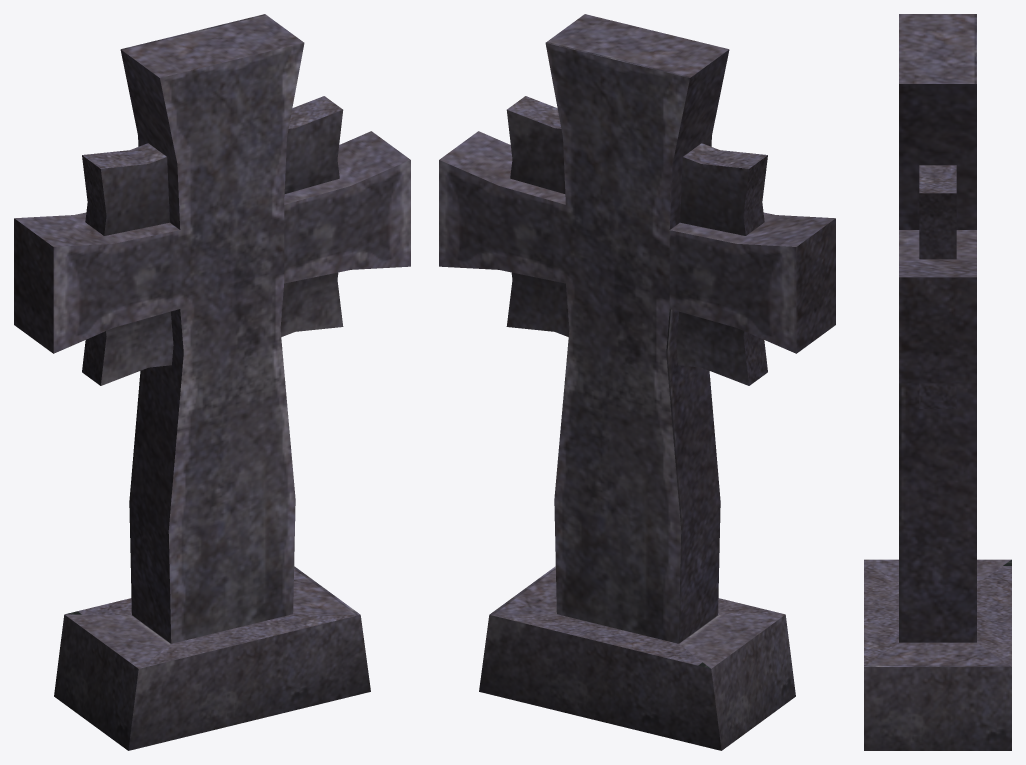
File: Tombstone_01.fbx
The picture shows the model from 3 angles, left to right: view 1: azimuth 30°, elevation 25°; view 2: azimuth 150°, elevation 25°; view 3: azimuth 270°, elevation 25°; orthographic projection.
Parts seen in each view (by area): view 1: Tombstone_01; view 2: Tombstone_01; view 3: Tombstone_01.
Part boxes in pixels (x1=…): Tombstone_01: x1=14, y1=14, x2=410, y2=750; Tombstone_01: x1=439, y1=14, x2=835, y2=750; Tombstone_01: x1=864, y1=14, x2=1011, y2=750.
Size of the model in its own units: 67.78 by 117 by 24.46.
